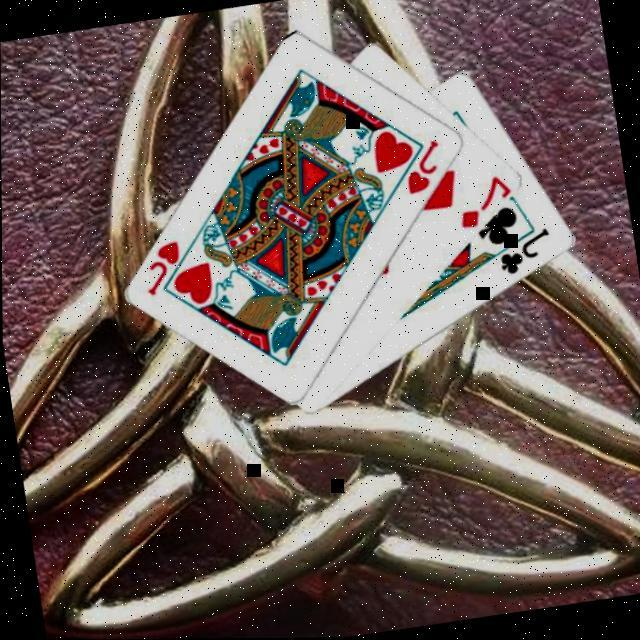7D: (454, 170, 518, 232)
JC: (495, 224, 559, 279)
JH: (399, 134, 451, 198), (139, 236, 190, 298)
